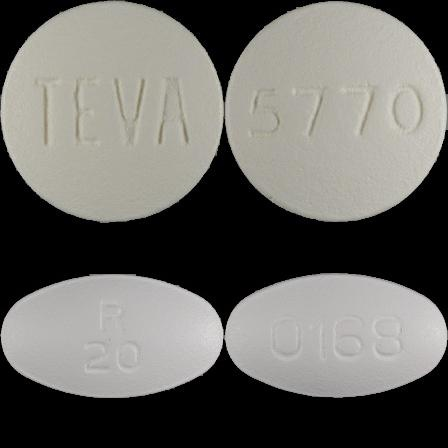42254-205: (0, 0, 224, 224)
